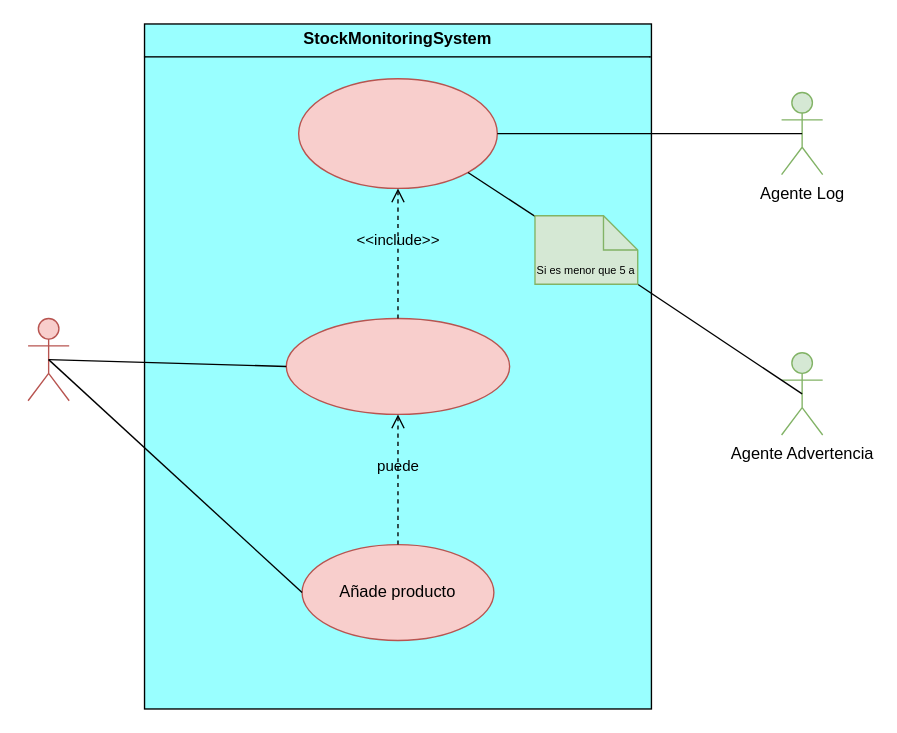
The diagram is 897 pixels wide and 733 high, and some of its shapes have lost their labels. The shapes that lost their labels are listed below. From the top down, each one's box as (x1, y1, x2, y2) in pixels, then its label:
(297, 77, 497, 188): Notifica cambio de stock
(27, 317, 69, 401): Cliente
(285, 317, 510, 414): Modificar stock
